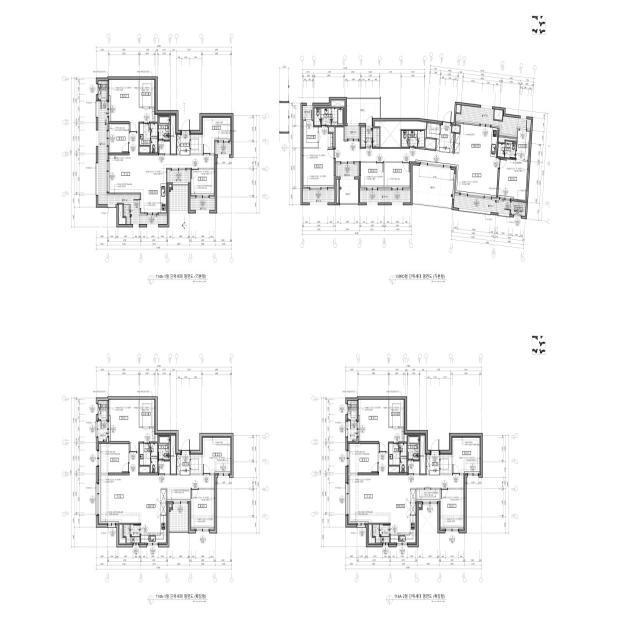space_balconi: (98, 101, 167, 224), (456, 105, 531, 135), (413, 165, 454, 208), (454, 195, 511, 215), (347, 100, 380, 123), (360, 191, 411, 203), (169, 186, 188, 211), (169, 506, 188, 531), (340, 179, 358, 203), (303, 190, 335, 203), (361, 127, 379, 147), (123, 525, 140, 543), (190, 198, 215, 210), (373, 525, 389, 543), (337, 165, 357, 177), (169, 171, 188, 183), (216, 143, 231, 155), (98, 421, 107, 441), (348, 421, 356, 441), (346, 126, 359, 138), (303, 106, 312, 118)
space_bedroom: (109, 80, 154, 132), (109, 400, 154, 452), (359, 400, 404, 452), (303, 127, 334, 187), (498, 158, 528, 200), (452, 437, 481, 473), (203, 117, 231, 153), (203, 437, 231, 473), (191, 490, 215, 529), (441, 490, 464, 529), (99, 444, 128, 473), (349, 444, 378, 473), (385, 163, 410, 188), (191, 170, 215, 196), (361, 163, 384, 188), (109, 124, 128, 153)
space_dressroom: (516, 130, 530, 160), (140, 80, 155, 107), (140, 400, 155, 427), (389, 400, 404, 427), (303, 121, 318, 147)
space_front: (436, 125, 454, 153), (177, 133, 190, 155), (427, 453, 440, 475), (177, 455, 190, 475)
space_kitchen: (455, 123, 498, 157), (141, 489, 166, 543), (391, 489, 416, 543), (141, 170, 166, 213)
space_living_room: (335, 127, 499, 197), (99, 453, 215, 523), (349, 453, 464, 523), (107, 132, 215, 194)
space_other: (375, 121, 426, 147), (167, 488, 190, 501), (417, 489, 440, 501), (426, 123, 440, 139), (191, 134, 202, 153), (440, 454, 451, 473), (191, 455, 202, 473), (171, 116, 176, 154), (420, 436, 425, 474), (171, 436, 176, 474), (158, 141, 170, 154), (158, 461, 170, 474), (408, 461, 419, 474), (119, 205, 125, 224), (119, 525, 125, 544), (425, 139, 436, 149), (499, 137, 517, 143), (369, 525, 375, 543), (329, 127, 334, 147), (494, 109, 503, 120), (332, 101, 344, 107), (139, 147, 149, 153), (452, 126, 460, 133), (337, 179, 339, 203), (456, 105, 461, 113), (155, 114, 157, 122), (155, 434, 157, 442), (405, 434, 407, 442), (419, 504, 421, 507), (169, 504, 171, 507), (169, 185, 171, 187)
space_outdoor_room: (511, 201, 526, 216), (98, 81, 107, 100), (98, 401, 107, 420), (348, 401, 357, 419)
space_toilet: (139, 443, 157, 473), (389, 443, 407, 473), (314, 108, 343, 125), (140, 124, 157, 153), (401, 131, 424, 147), (498, 141, 516, 159), (158, 116, 170, 140), (158, 436, 170, 460), (408, 436, 419, 461)
